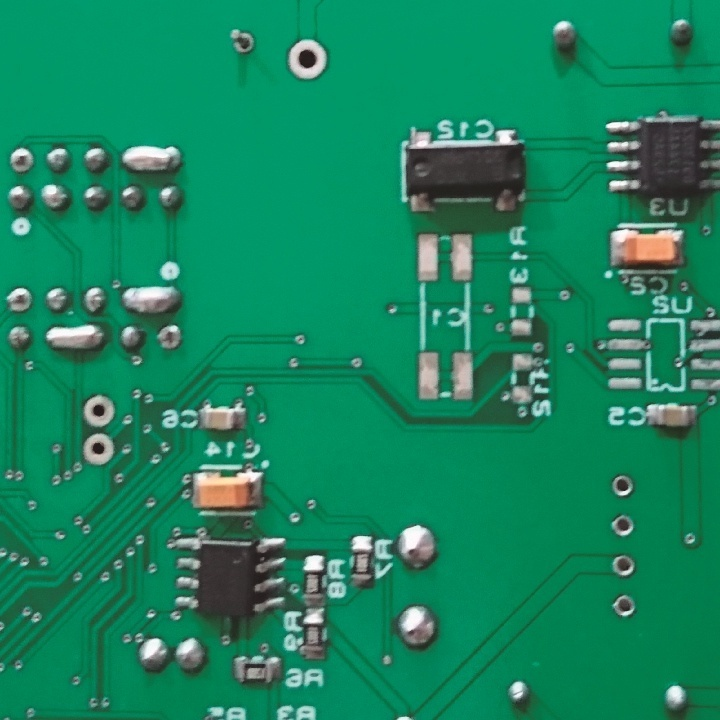F: (284, 37, 329, 83), (79, 395, 116, 429), (2, 286, 36, 317), (81, 435, 114, 466), (7, 146, 35, 174), (229, 29, 256, 57), (610, 552, 636, 581), (611, 472, 635, 503), (610, 513, 637, 540), (155, 325, 182, 352), (610, 593, 637, 618)
P: (43, 323, 105, 355), (121, 142, 181, 175), (120, 284, 181, 315)
